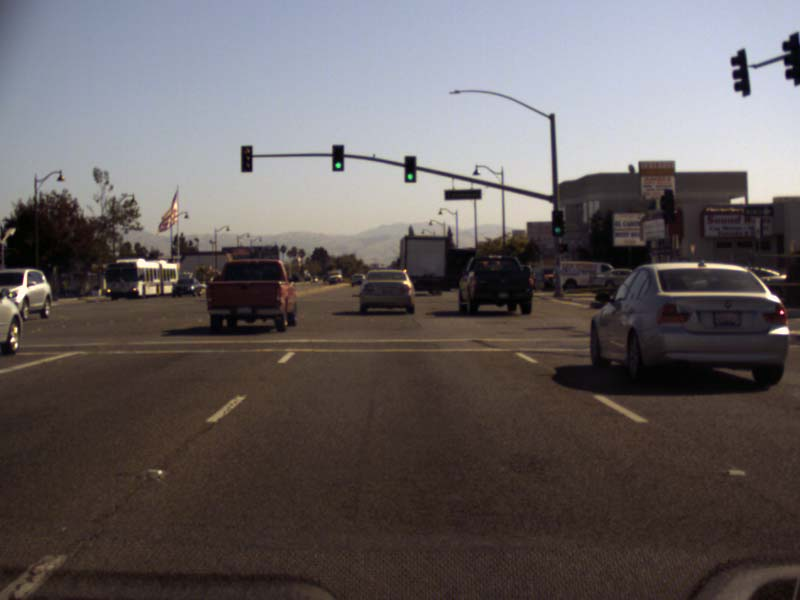Green: (332, 144, 343, 171), (552, 210, 563, 236), (405, 155, 415, 182)
Red: (242, 145, 252, 171)
